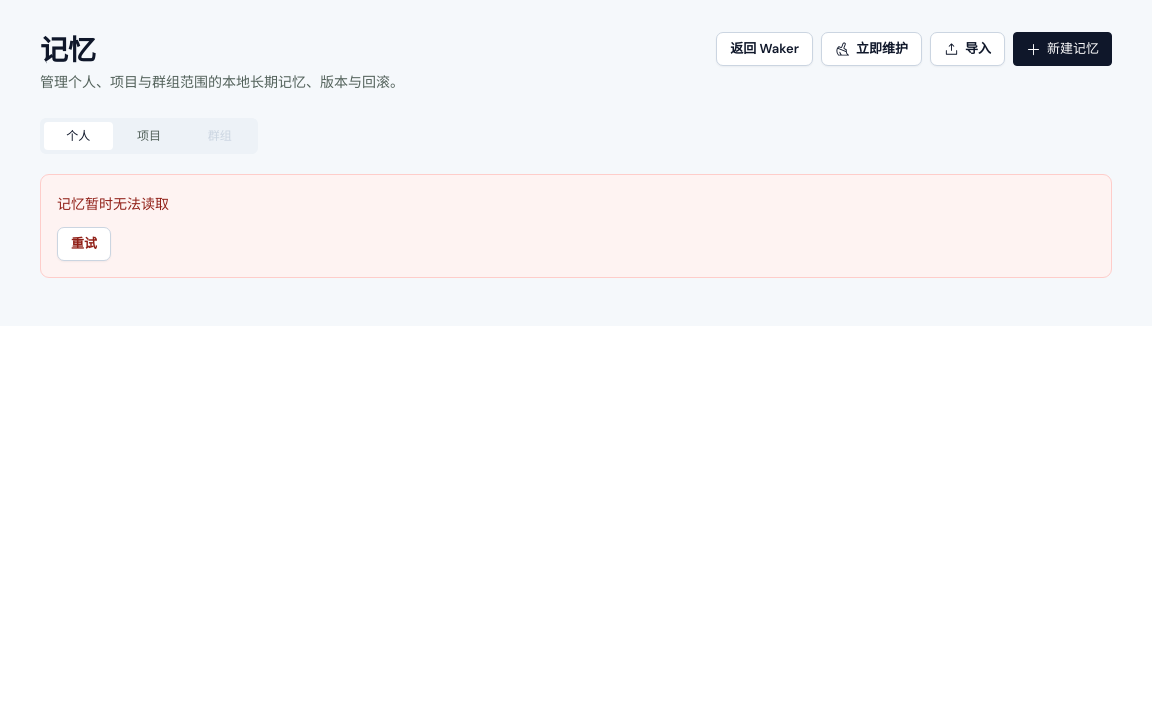
Test: MemoryView 范围筛选 › 网络中断时本地化错误并可重试恢复记忆
The width and height of the screenshot is (1152, 720).
Click the button "重试" at point(84, 244), box [57,227,111,261]
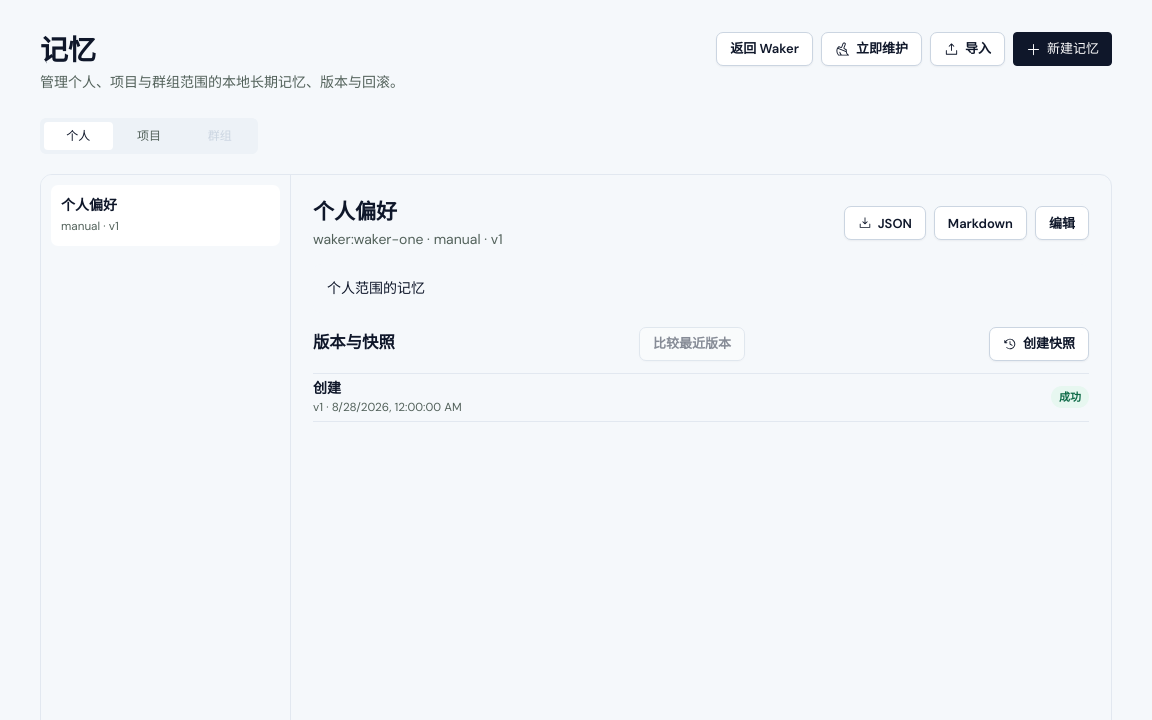
Check: the button "个人偏好 manual · v1" is shown, box [51,185,280,246]
Check: the text "创建" is shown, box [313,379,341,397]
